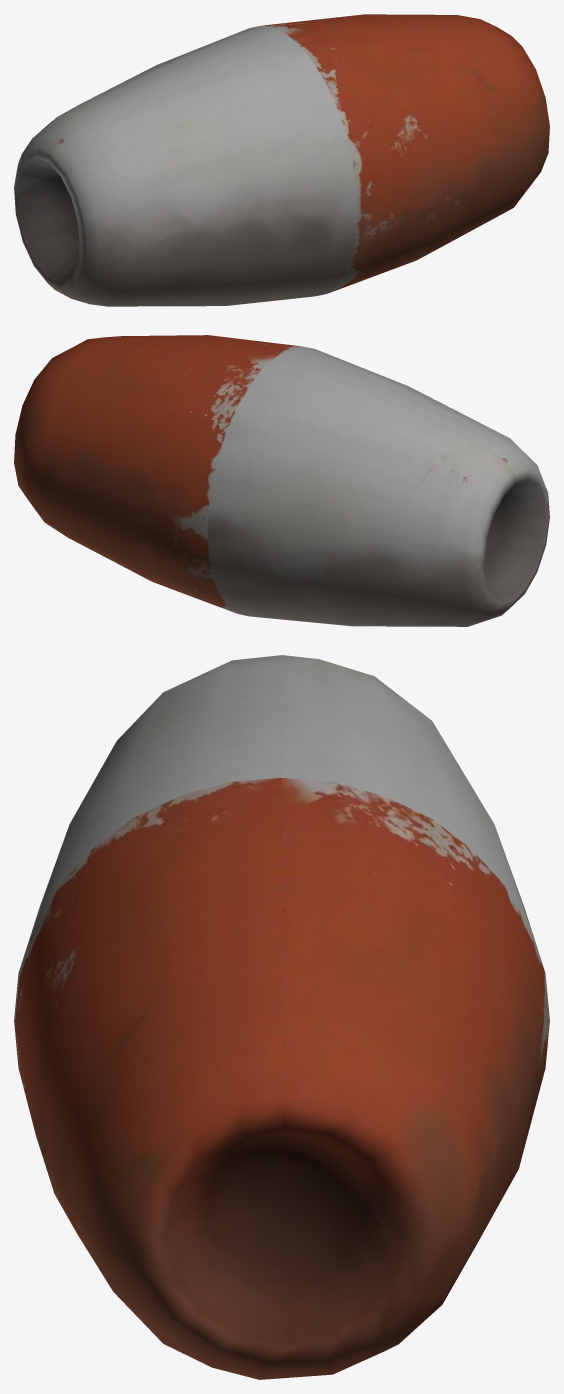
The picture shows the model from 3 angles, top to bottom: view 1: azimuth 30°, elevation 25°; view 2: azimuth 150°, elevation 25°; view 3: azimuth 270°, elevation 25°; orthographic projection. The views are drawn at different scales.
Parts seen in each view (by area): view 1: body0_model0_lod0_mesh0; view 2: body0_model0_lod0_mesh0; view 3: body0_model0_lod0_mesh0.
Part boxes in pixels (left/top/right/bottom): body0_model0_lod0_mesh0: left=14, top=14, right=549, bottom=306; body0_model0_lod0_mesh0: left=14, top=335, right=549, bottom=626; body0_model0_lod0_mesh0: left=14, top=655, right=549, bottom=1379.
Size of the model in its own units: 26.63 by 13.64 by 13.64.
1 material, 1 textured.
